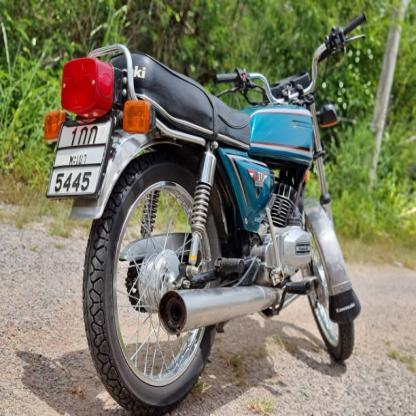Motorcycle: (40, 10, 375, 415)
